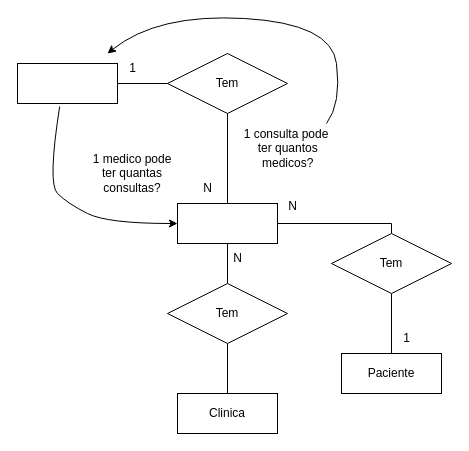
Image size: 469x451. Some labels were removed from this diagram. The shapes that lost their labels are listed below. From the top down, each one's box as (x1, y1, x2, y2) in pixels, then its label:
(16, 62, 118, 104): Medico
(176, 202, 278, 244): Consulta
